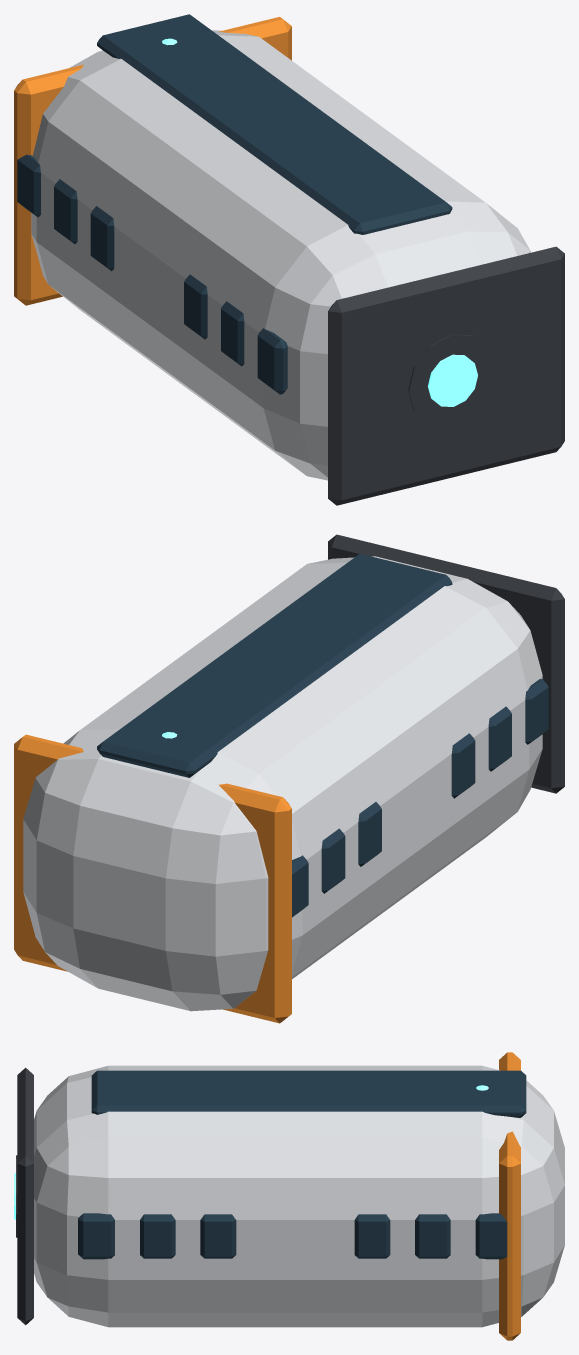
Rendered from crew_quarters_medium.glb.
3 views of the same model, one above another, from view 1: azimuth 30°, elevation 25°; view 2: azimuth 150°, elevation 25°; view 3: azimuth 270°, elevation 25° (orthographic). The views are drawn at different scales.
Parts seen in each view (by area): view 1: crew_quarters_medium; view 2: crew_quarters_medium; view 3: crew_quarters_medium.
Part boxes in pixels (box(x1,y1,x2,y2)): crew_quarters_medium: box(14, 14, 564, 505); crew_quarters_medium: box(14, 534, 564, 1023); crew_quarters_medium: box(14, 1052, 564, 1340).
Size of the model in its own units: 0.95 by 0.865 by 2.
